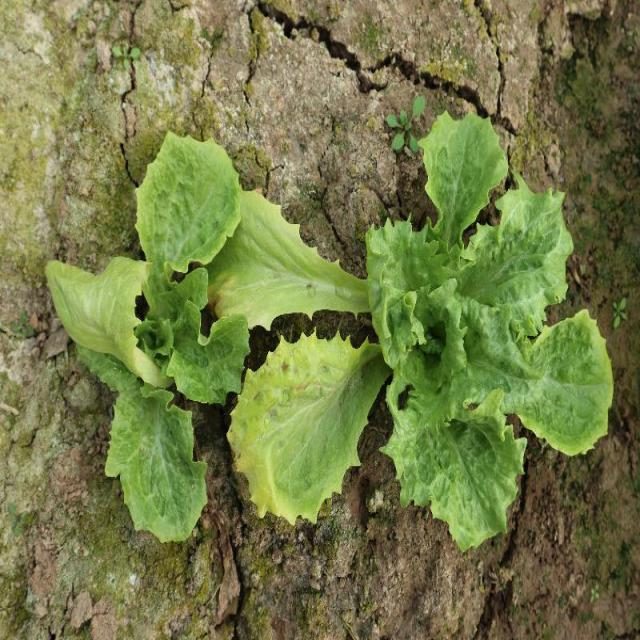crop: (200, 107, 613, 549), (43, 131, 251, 545)
